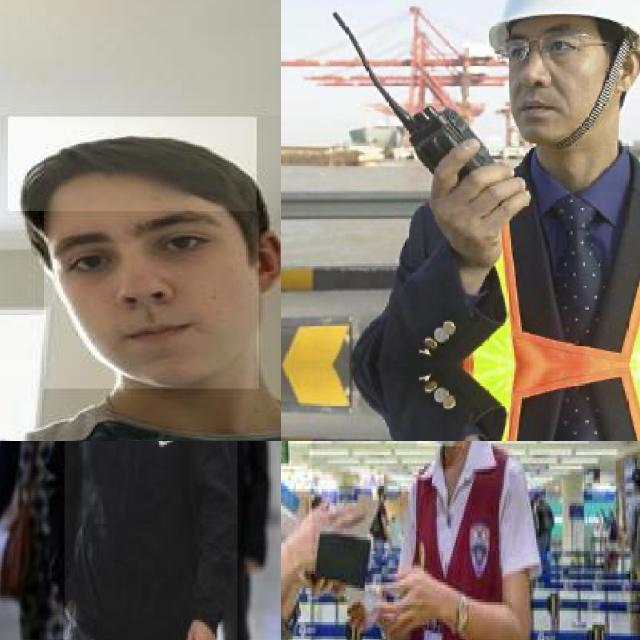No_Ear-Protection: (238, 219, 281, 302), (616, 51, 640, 94)
No_Glasses: (22, 205, 236, 283)
face_nomask: (44, 211, 259, 389), (509, 67, 603, 145)
glasses: (502, 34, 607, 64)
hand_noglove: (429, 140, 529, 294), (376, 556, 434, 638), (181, 615, 221, 640)
head_helmet: (488, 0, 640, 55)
head_nohelmet: (8, 117, 256, 211)
person: (0, 114, 281, 441), (64, 441, 239, 640), (384, 441, 537, 640)
